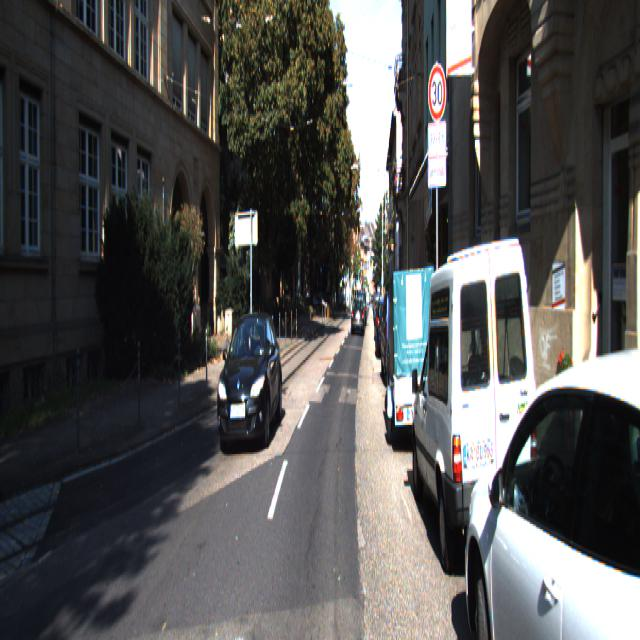Car: (460, 312, 640, 638), (410, 218, 542, 610), (386, 261, 438, 459), (216, 308, 283, 460), (379, 284, 412, 388), (375, 294, 397, 360), (351, 296, 365, 337)
